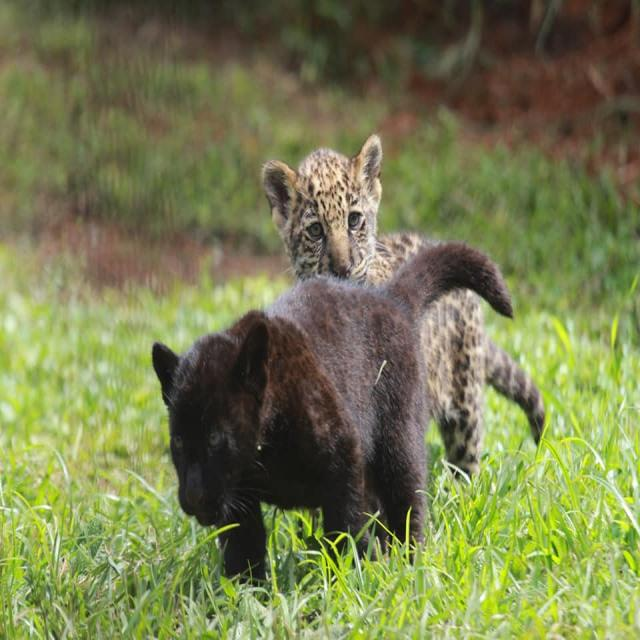Jaguar: (149, 265, 460, 551), (258, 134, 537, 431)
